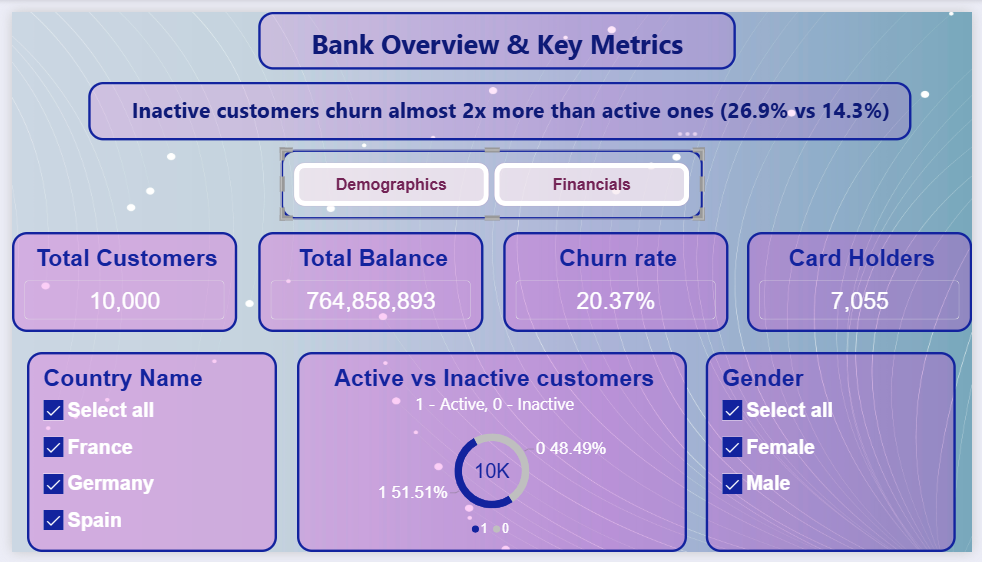

Layout of this report page (visuals, bound fields, positions):
{"tool":"powerbi","page":{"name":"Executive Summary","canvas":[1920,1080],"ordinal":0},"visuals":[{"type":"textbox","box":[493.3,0,955.6,114.8],"z":0},{"type":"slicer","fields":{"Values":["public customers.gender"]},"box":[1386.7,680,500,400],"z":1000},{"type":"slicer","fields":{"Values":["public geography.country_name"]},"box":[30,680,500,400],"z":2000},{"type":"pageNavigator","box":[537.5,275,845,140],"z":3000},{"type":"cardVisual","title":"Total Customers","fields":{"Data":["public customers.Total customers"]},"box":[0,440,450,200],"z":4000},{"type":"cardVisual","title":"Total Balance","fields":{"Data":["public bank_accounts.Total Balance"]},"box":[493.3,440,450,200],"z":5000},{"type":"cardVisual","title":"Churn rate","fields":{"Data":["public customers.Churn rate"]},"box":[983.3,440,450,200],"z":6000},{"type":"donutChart","title":"Active vs Inactive customers","fields":{"Category":["public customers.status"],"Y":["CountNonNull(public customers.customer_id)"]},"box":[570,680,780,400],"z":7000},{"type":"cardVisual","title":"Card Holders","fields":{"Data":["public bank_accounts.Credit Card Holders"]},"box":[1470,440,450,200],"z":8000},{"type":"textbox","box":[153.3,140,1646.7,116.7],"z":9000}]}

Visuals, with their boxes in screenshot pixels (x1, y1, x2, y2), scaled from the page's 1920x1080 canvas onto the 982x562 screenshot:
textbox: pyautogui.locateOnScreen(252, 0, 741, 60)
slicer - public customers.gender: pyautogui.locateOnScreen(709, 354, 965, 561)
slicer - public geography.country_name: pyautogui.locateOnScreen(15, 354, 271, 561)
pageNavigator: pyautogui.locateOnScreen(275, 143, 707, 216)
"Total Customers" cardVisual: pyautogui.locateOnScreen(0, 229, 230, 333)
"Total Balance" cardVisual: pyautogui.locateOnScreen(252, 229, 482, 333)
"Churn rate" cardVisual: pyautogui.locateOnScreen(503, 229, 733, 333)
"Active vs Inactive customers" donutChart: pyautogui.locateOnScreen(292, 354, 690, 561)
"Card Holders" cardVisual: pyautogui.locateOnScreen(752, 229, 981, 333)
textbox: pyautogui.locateOnScreen(78, 73, 921, 134)
